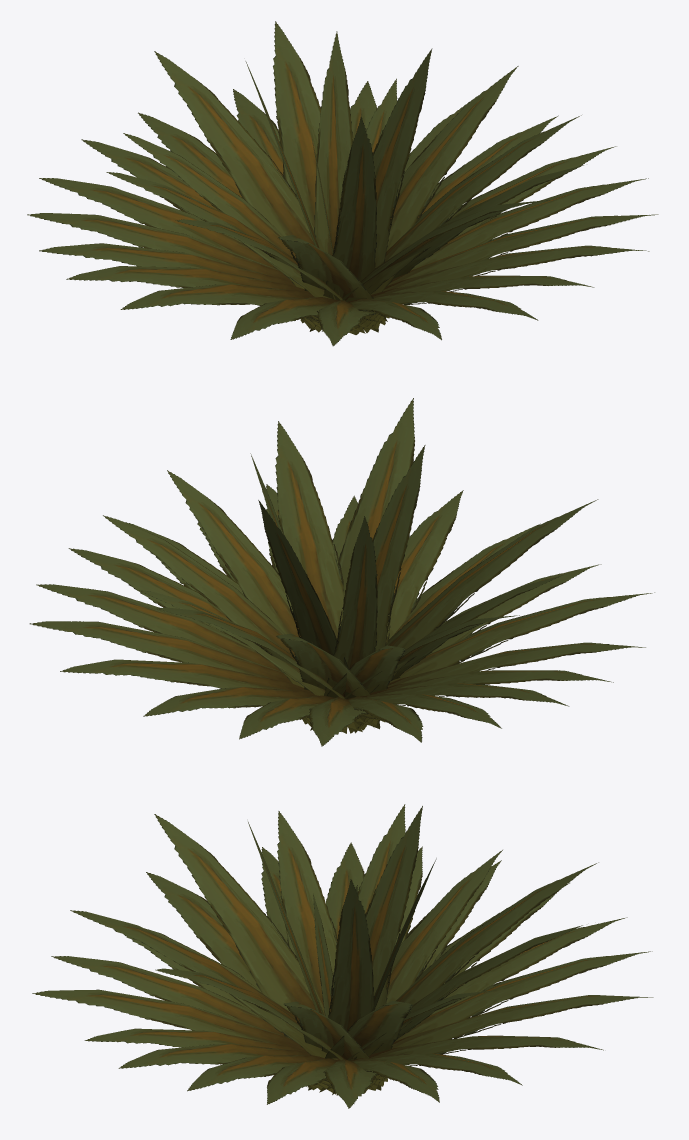
The model's file is GardenShrub_2.fbx.
The picture shows the model from 3 angles, top to bottom: view 1: azimuth 30°, elevation 25°; view 2: azimuth 150°, elevation 25°; view 3: azimuth 270°, elevation 25°; orthographic projection.
Parts seen in each view (by area): view 1: pPlane119; view 2: pPlane119; view 3: pPlane119.
Part boxes in pixels (x1=…): pPlane119: x1=27, y1=21, x2=658, y2=346; pPlane119: x1=29, y1=398, x2=654, y2=746; pPlane119: x1=32, y1=804, x2=653, y2=1108.
Size of the model in its own units: 1.19 by 0.5092 by 1.2.
